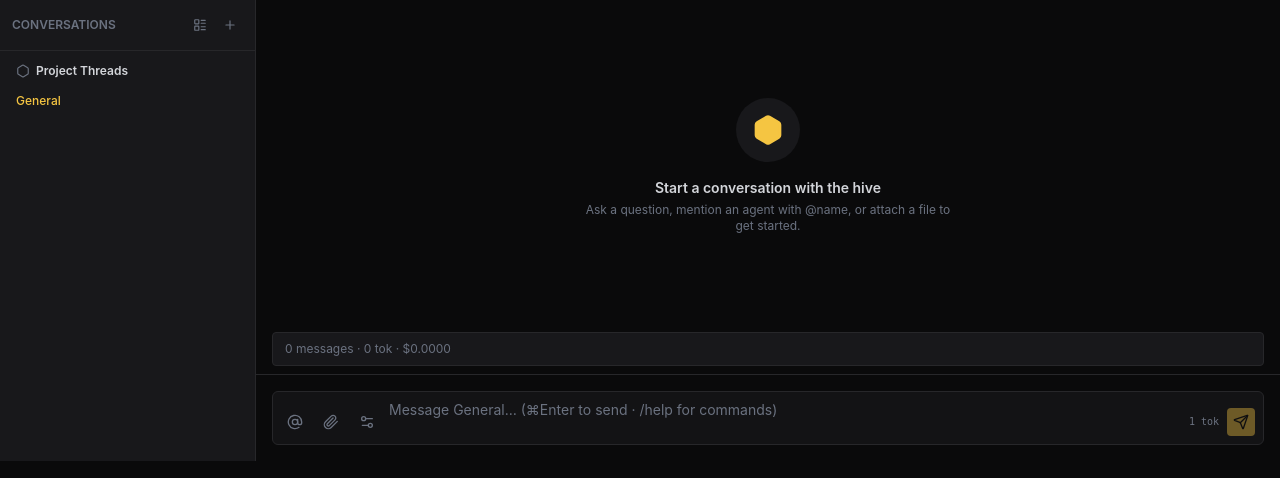
ChatCentral › the send button is disabled until there is text in the composer
Expected: the button named "Send message" is disabled, [1227,408,1255,436]
Type "hi there" into the text box with placeholder "Message General… (⌘Enter to send · /help for commands)".
click(785, 418); type("hi there")  # box [389,400,1181,436]
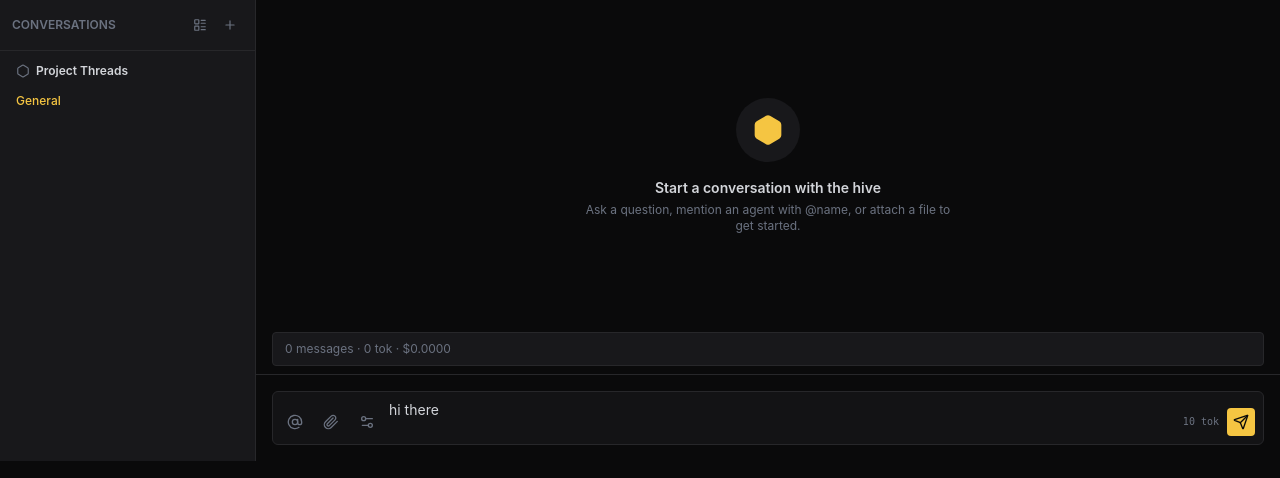
Now the button named "Send message" is enabled, box [1227,408,1255,436]
